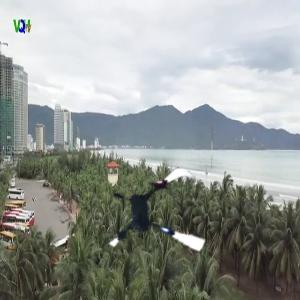drone: (102, 156, 217, 271)
